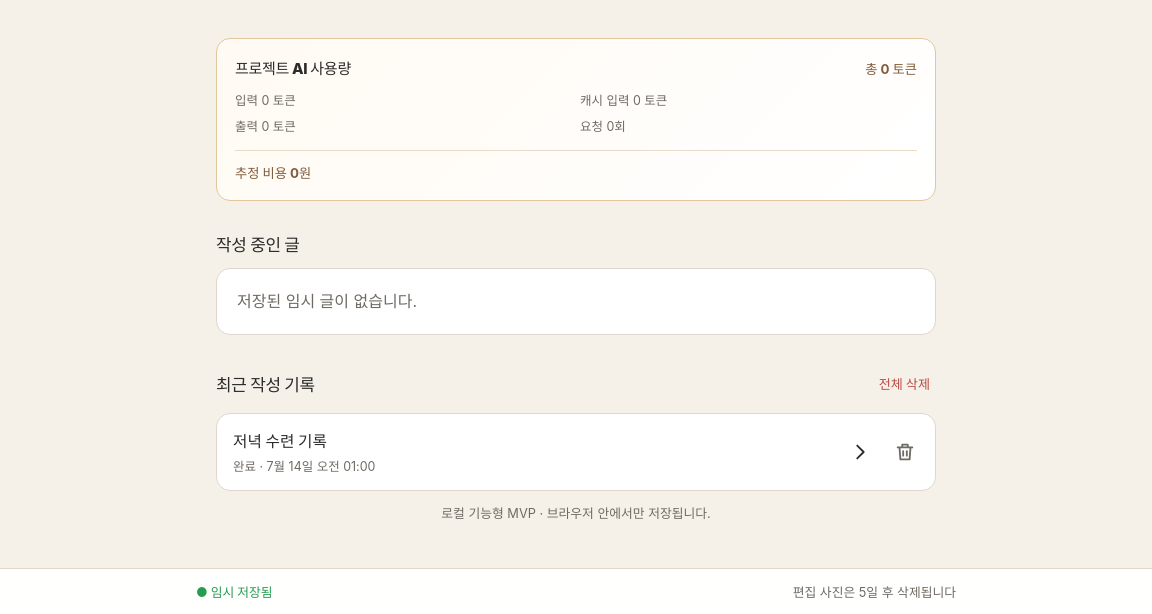
Scenario: history deletion › confirms and permanently deletes one completed record
The width and height of the screenshot is (1152, 614).
(page scrolled)
Expected: the text "저녁 수련 기록" is shown, [233,432,327,451]
Step 1. Click the button named "저녁 수련 기록 삭제" → (905, 452), box [883,430,927,474]
(page scrolled)
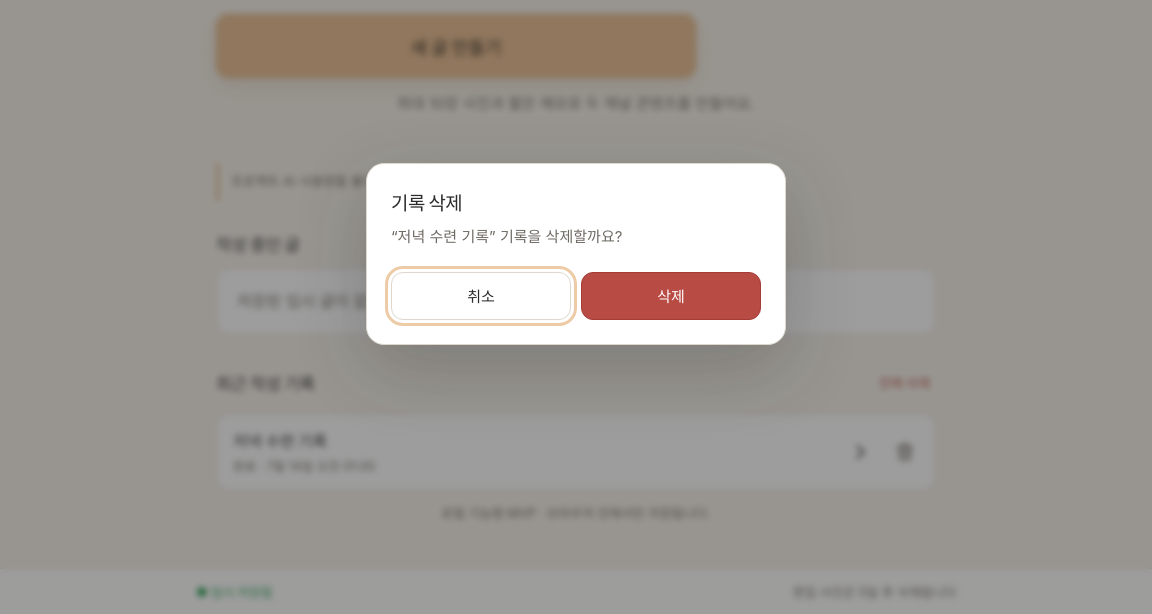
Now the dialog shows "“저녁 수련 기록” 기록을 삭제할까요?", box [391,228,622,246]
Step 2. Click the button "삭제" → (671, 296), box [581,272,761,320]
(page scrolled)
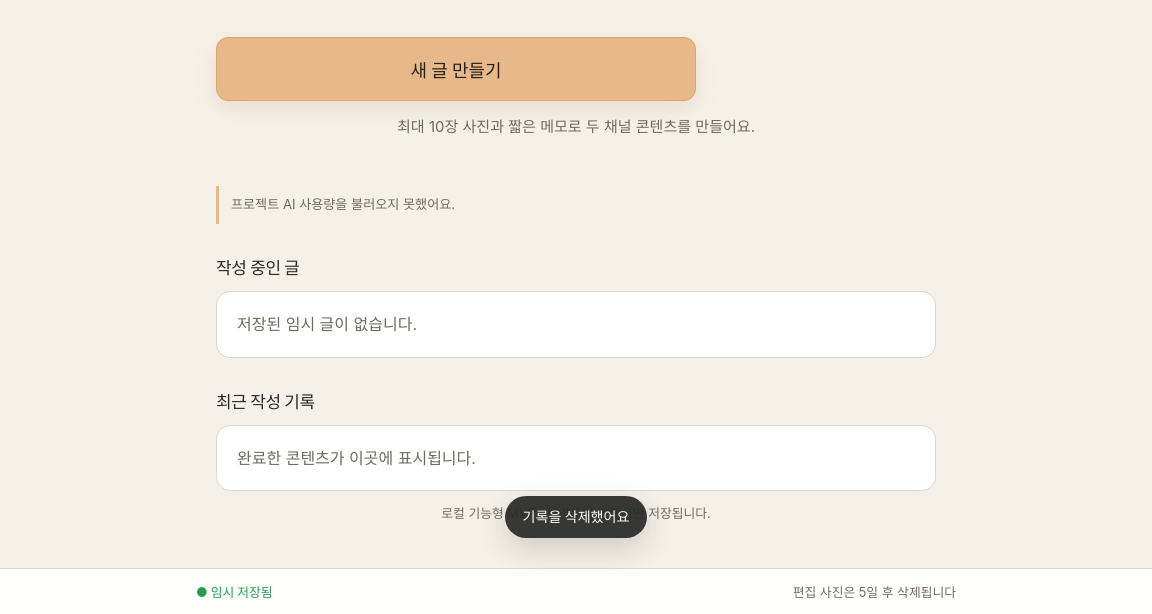
Now the dialog is gone
Now the link "저녁 수련 기록" is gone
Now the message reads "기록을 삭제했어요", box [522,508,630,525]
